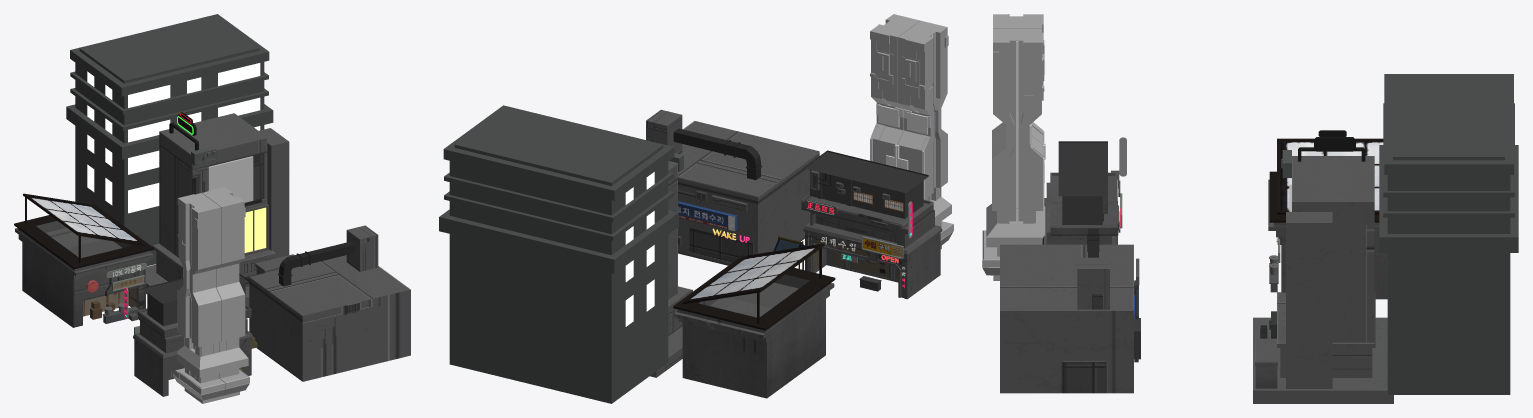
Rendered from Block_1.fbx.
The picture shows the model from 3 angles, left to right: view 1: azimuth 30°, elevation 25°; view 2: azimuth 150°, elevation 25°; view 3: azimuth 270°, elevation 25°; orthographic projection. The views are drawn at different scales.
Visible parts, largest first — view 1: Building03.002, Building04, Cube.021, Building05_Top.001, Building01, Building01_roof, Building05_Side.001, Building02, Building05_LED.001, Building05_Middle_02.001, Building04_Top, Ventilator.002 (+9 smaller); view 2: Building03.002, Building04, Building01, Cube.021, Building01_roof, Building02, Building02_Roof, Building02_Top, Ventilator.002, Building02_Middle01, Building02_Middle02, Building02.001 (+7 smaller); view 3: Building03.002, Building04, Cube.021, Building05_Top.001, Building05_Side.001, Building05.001, Building01, Building02_Roof, Building05_Middle_02.001, Building02_Middle02, Building04_Top, Building02_Top (+5 smaller).
Part boxes in pixels (left/top/right/bottom): Building03.002: left=66, top=14, right=273, bottom=265; Building04: left=249, top=255, right=410, bottom=381; Cube.021: left=172, top=186, right=249, bottom=403; Building05_Top.001: left=159, top=113, right=267, bottom=257; Building01: left=22, top=193, right=145, bottom=327; Building01_roof: left=14, top=204, right=153, bottom=279; Building05_Side.001: left=259, top=128, right=289, bottom=258; Building02: left=134, top=326, right=251, bottom=396; Building05_LED.001: left=208, top=156, right=253, bottom=202; Building05_Middle_02.001: left=152, top=243, right=275, bottom=286; Building04_Top: left=346, top=225, right=378, bottom=271; Ventilator.002: left=278, top=242, right=354, bottom=286; Building03.002: left=439, top=105, right=678, bottom=403; Building04: left=678, top=121, right=819, bottom=265; Building01: left=682, top=243, right=825, bottom=398; Cube.021: left=870, top=14, right=953, bottom=249; Building01_roof: left=673, top=255, right=835, bottom=342; Building02: left=805, top=232, right=940, bottom=299; Building02_Roof: left=804, top=150, right=928, bottom=193; Building02_Top: left=810, top=170, right=923, bottom=218; Ventilator.002: left=673, top=128, right=762, bottom=180; Building02_Middle01: left=810, top=210, right=934, bottom=248; Building02_Middle02: left=801, top=194, right=933, bottom=233; Building02.001: left=812, top=248, right=898, bottom=282; Building03.002: left=1379, top=74, right=1518, bottom=394; Building04: left=1000, top=244, right=1133, bottom=393; Cube.021: left=982, top=14, right=1045, bottom=280; Building05_Top.001: left=1292, top=156, right=1374, bottom=342; Building05_Side.001: left=1286, top=212, right=1332, bottom=388; Building05.001: left=1253, top=317, right=1393, bottom=403; Building01: left=1277, top=138, right=1387, bottom=299; Building02_Roof: left=1058, top=141, right=1107, bottom=196; Building05_Middle_02.001: left=1277, top=292, right=1375, bottom=377; Building02_Middle02: left=1050, top=172, right=1117, bottom=235; Building04_Top: left=1077, top=257, right=1109, bottom=309; Building02_Top: left=1062, top=196, right=1103, bottom=224.
Bounding box in the file's own units: 4728 × 3760 × 7012.
